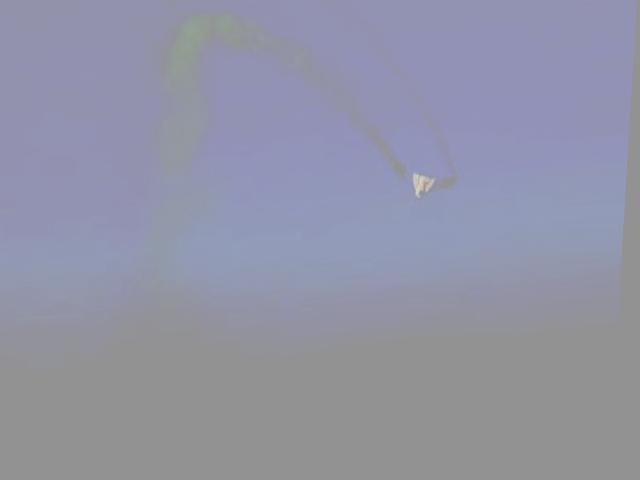iha: (386, 165, 464, 212)
